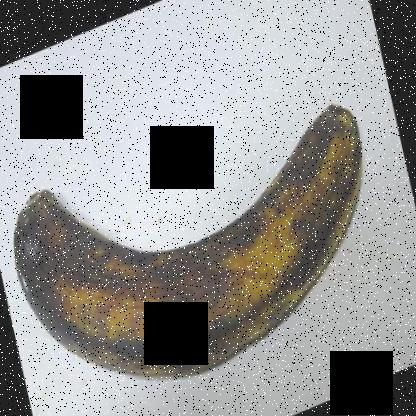overripe: (1, 95, 381, 394)
rotten: (1, 172, 86, 356)
